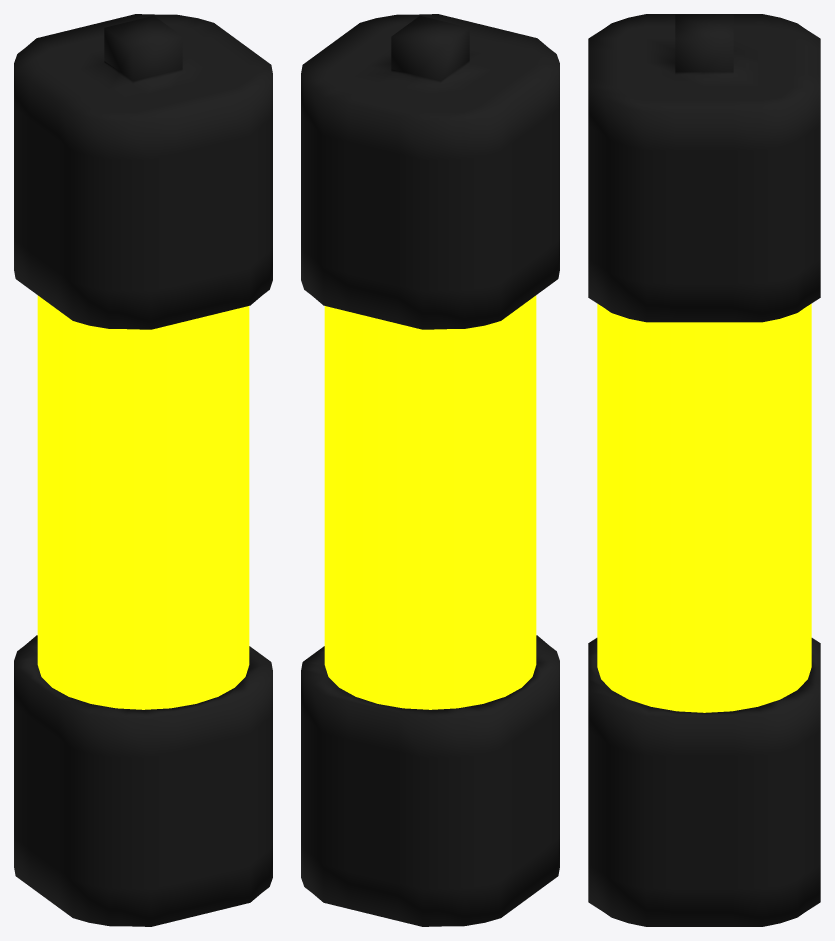
File: fusible.fbx
The picture shows the model from 3 angles, left to right: view 1: azimuth 30°, elevation 25°; view 2: azimuth 150°, elevation 25°; view 3: azimuth 270°, elevation 25°; orthographic projection.
Parts seen in each view (by area): view 1: Cylinder, Cube, Cube.001; view 2: Cylinder, Cube, Cube.001; view 3: Cylinder, Cube, Cube.001.
Boxes of the visible parts, bbox=[...] form: Cylinder: bbox=[37, 295, 249, 709]; Cube: bbox=[14, 14, 272, 329]; Cube.001: bbox=[14, 635, 272, 926]; Cylinder: bbox=[324, 295, 536, 709]; Cube: bbox=[301, 14, 559, 329]; Cube.001: bbox=[301, 635, 559, 926]; Cylinder: bbox=[597, 303, 811, 712]; Cube: bbox=[588, 14, 820, 322]; Cube.001: bbox=[588, 638, 820, 926].
Size of the model in its own units: 10.38 by 43.82 by 10.38.
